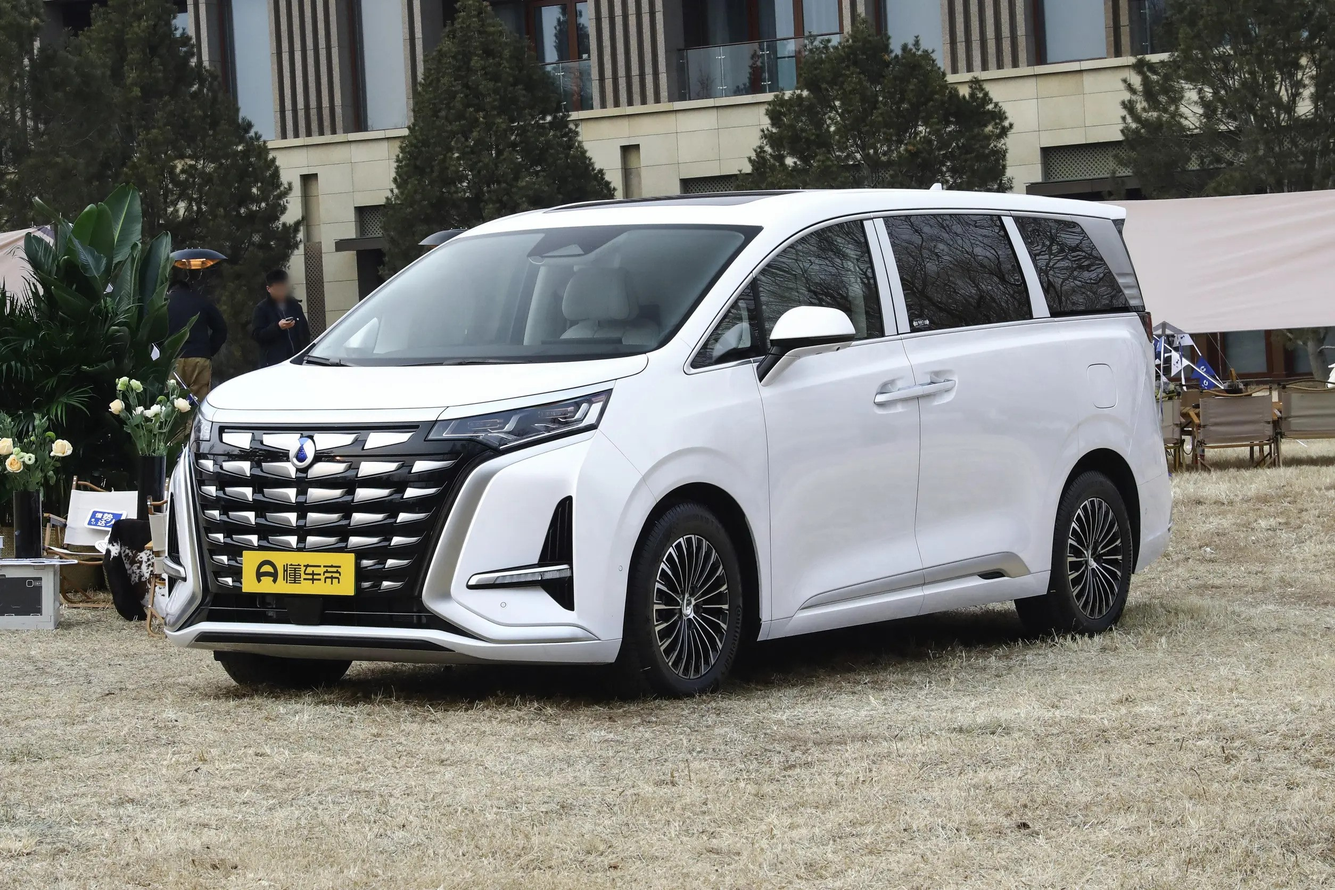DENZA: (290, 438, 315, 468)
